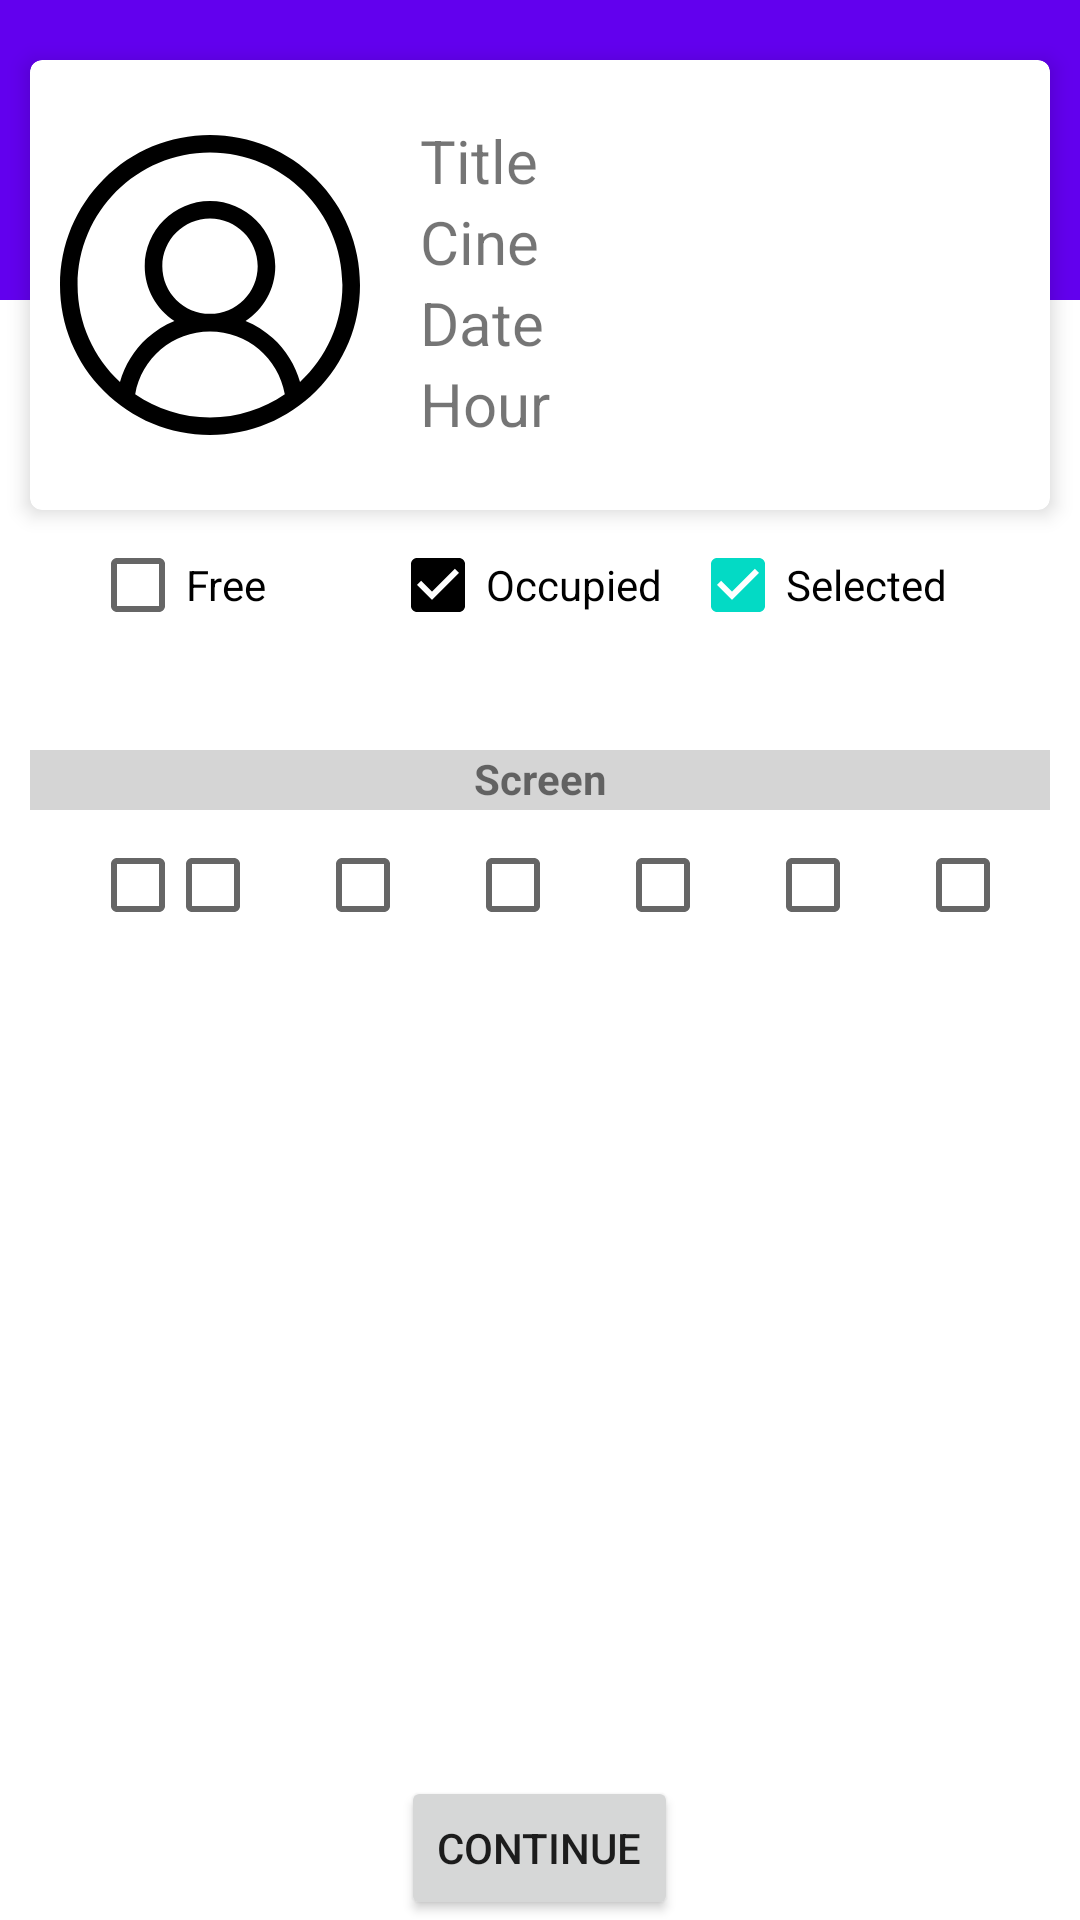

Screen size 1080 × 1920. Icon name, then its box in pixels as (x1, y1, x2, y2):
user: (60, 135, 360, 435)
